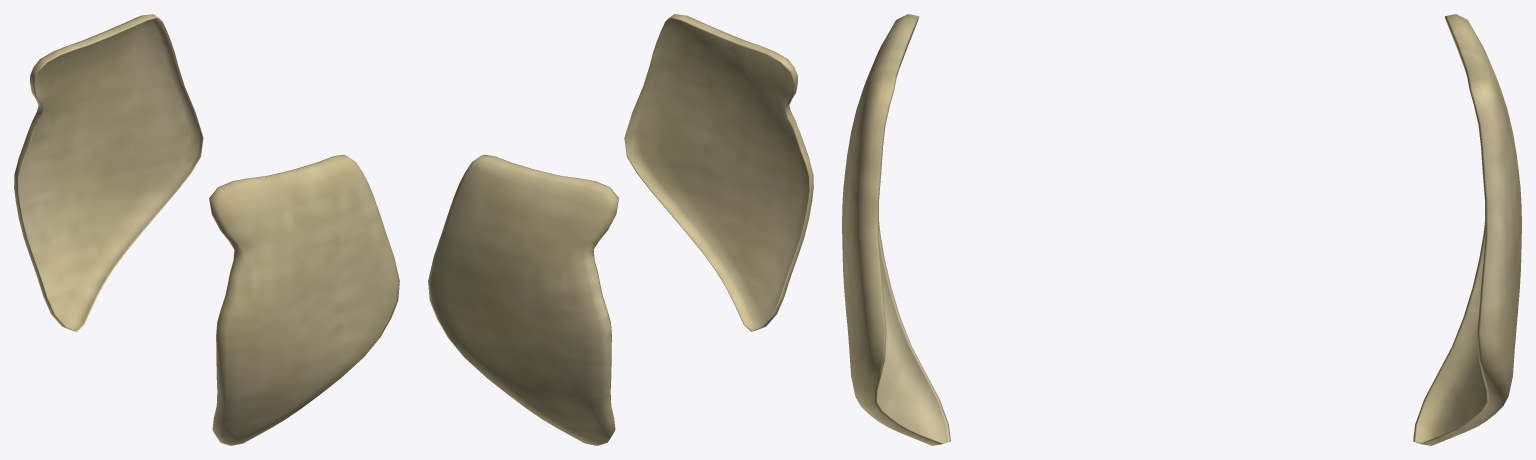
File: kepala3_pipi.glb
The picture shows the model from 3 angles, left to right: view 1: azimuth 30°, elevation 25°; view 2: azimuth 150°, elevation 25°; view 3: azimuth 270°, elevation 25°; orthographic projection. The views are drawn at different scales.
Parts seen in each view (by area): view 1: Tulang_MSH27; view 2: Tulang_MSH27; view 3: Tulang_MSH27.
Boxes of the visible parts, x1,y1,x2,y2 form: Tulang_MSH27: (14,14,399,445); Tulang_MSH27: (428,14,813,445); Tulang_MSH27: (842,14,1521,445).
Bounding box in the file's own units: 0.0276 × 0.0403 × 0.0576.
Materials: 1 (1 with a texture image).
